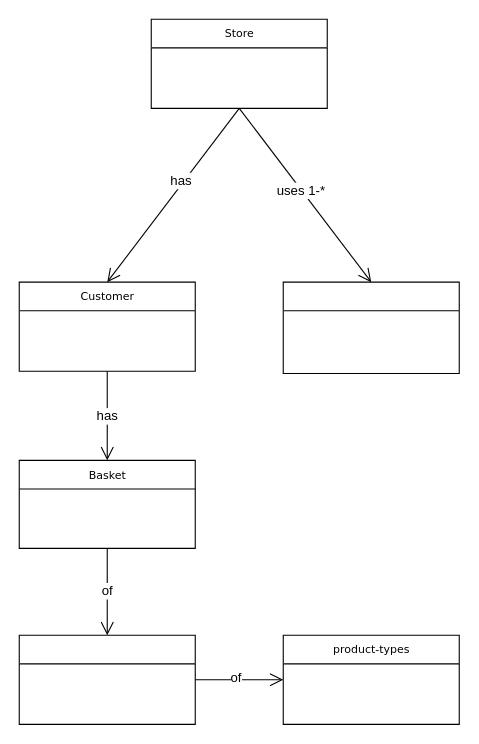
This 479x744 diagram has some shape labels left out. Here are the shapes that lost their labels. From the top down, the centre of each, then its label:
point 370,327: Discounts
point 106,679: Product
